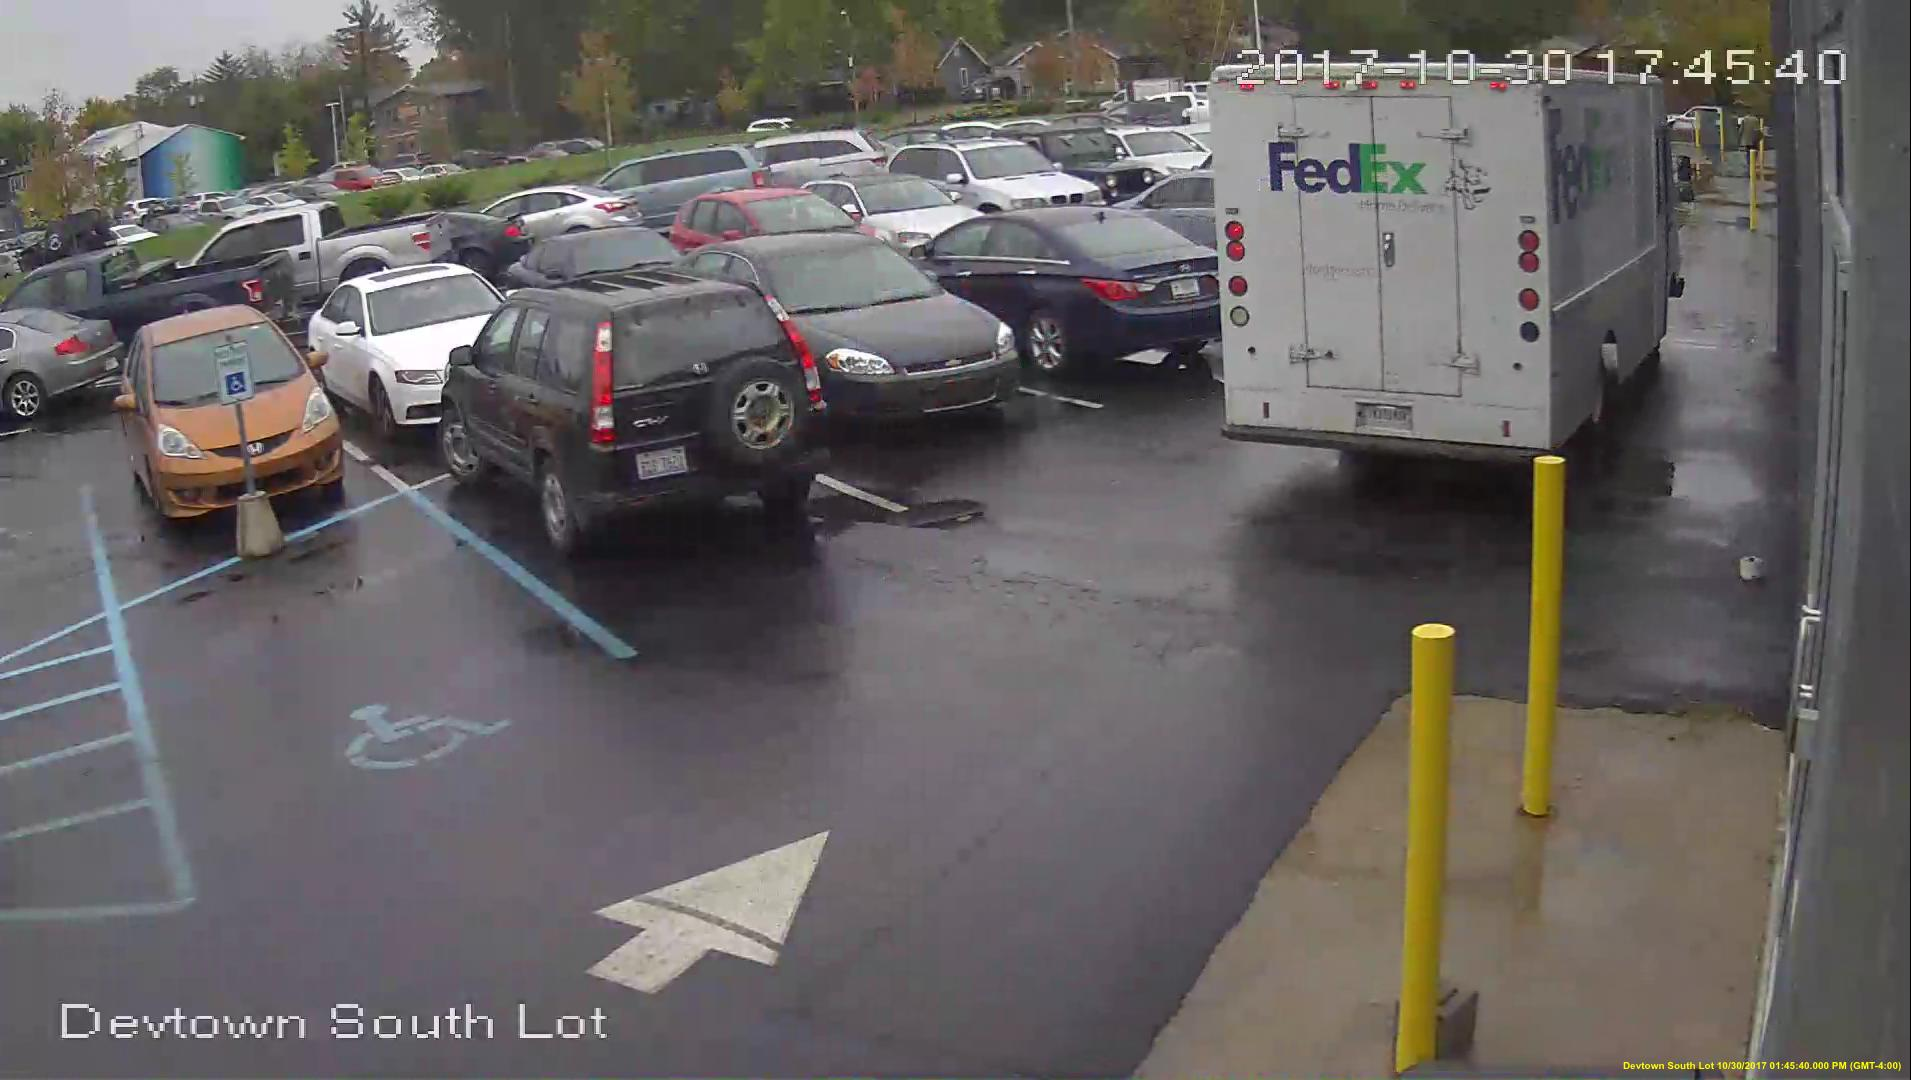fedex_truck: (1213, 70, 1687, 462)
